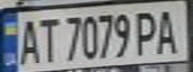0: (78, 11, 100, 61)
7: (60, 12, 81, 63), (96, 10, 115, 60)
9: (112, 9, 133, 58)
A: (151, 6, 184, 56), (15, 16, 42, 65)
P: (133, 7, 163, 56)
T: (33, 15, 60, 64)
